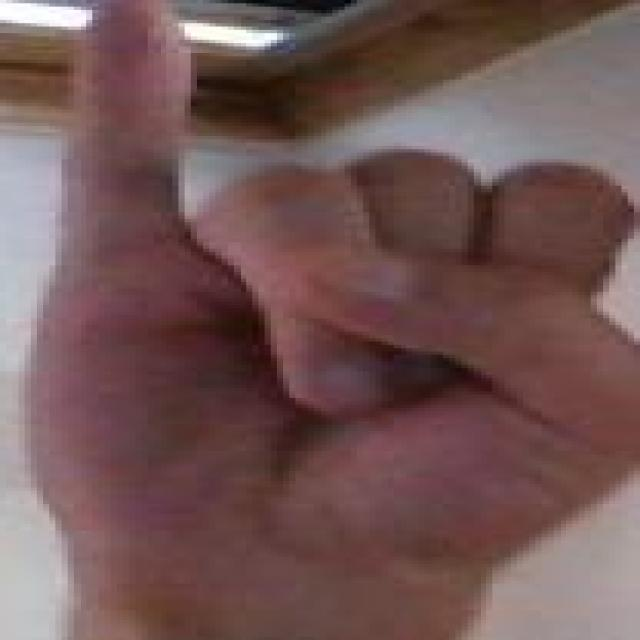I: (0, 0, 640, 541)
